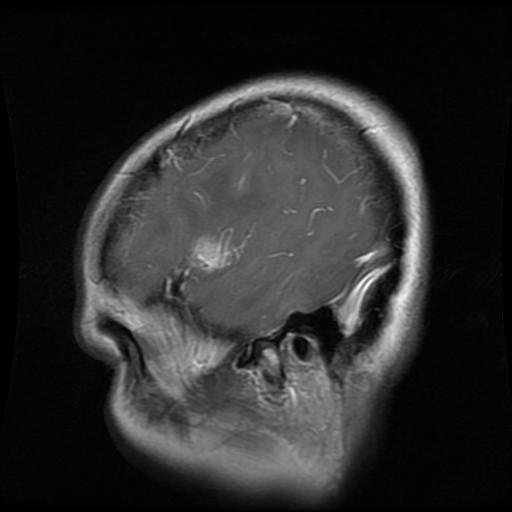Gliomia_tumour: (186, 225, 238, 273)
